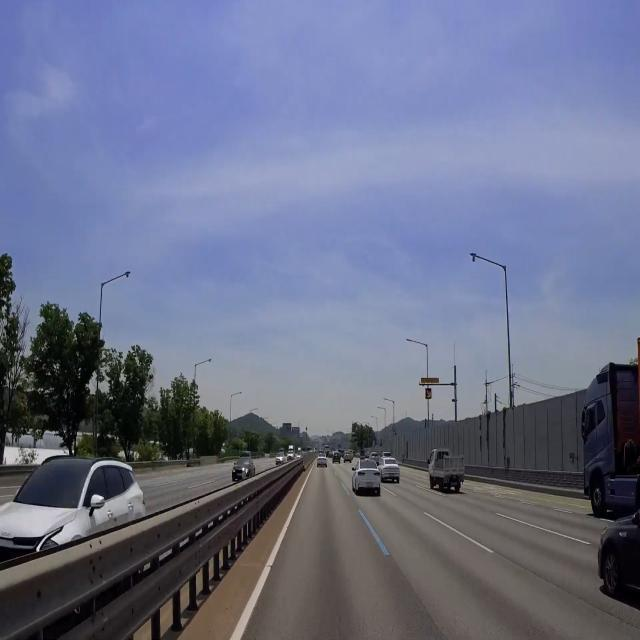car: (364, 481, 379, 491)
